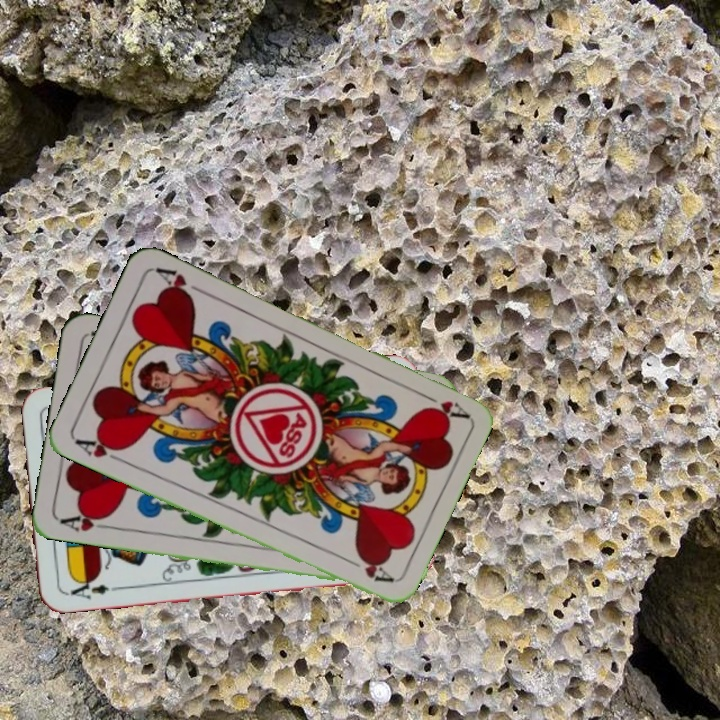EA: (62, 575, 122, 603)
HA: (414, 387, 470, 421), (71, 433, 128, 466), (56, 508, 115, 535)
